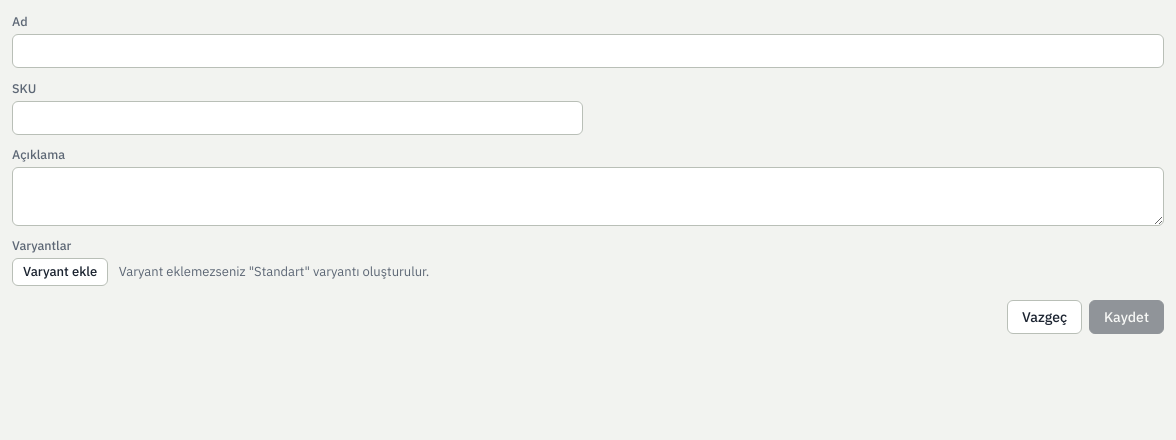
ProductForm › rejects a negative critical threshold
Type "Kupa" into the field labelled "Ad". click: [588, 51]
box: [12, 34, 1164, 68]
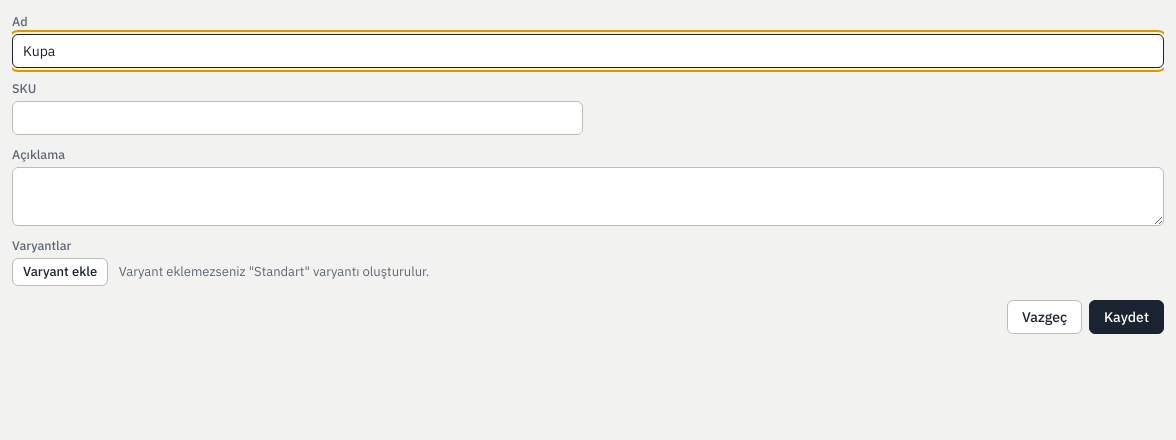
Click the button "Varyant ekle". click: [60, 272]
box: [12, 258, 108, 286]
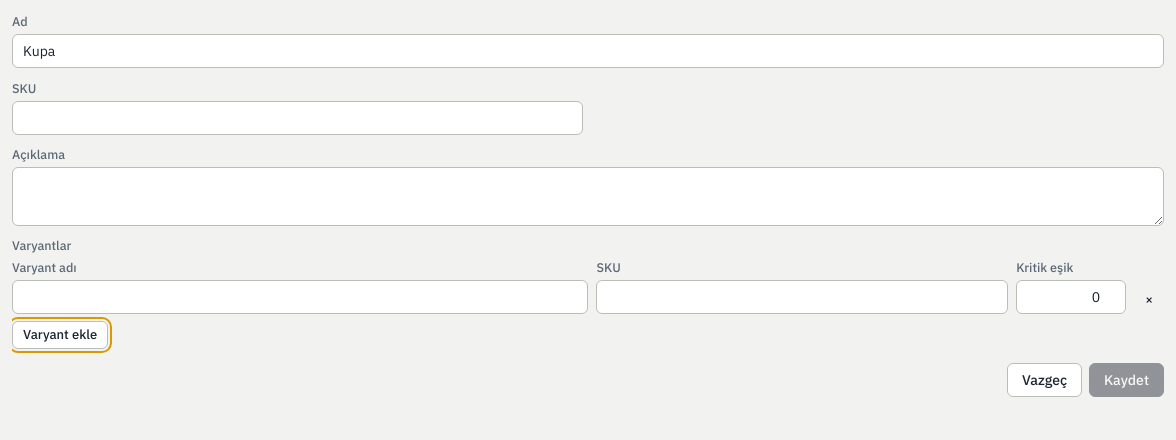
Type "Büyük" into the field labelled "Varyant adı". click: [300, 297]
box: [12, 280, 588, 314]
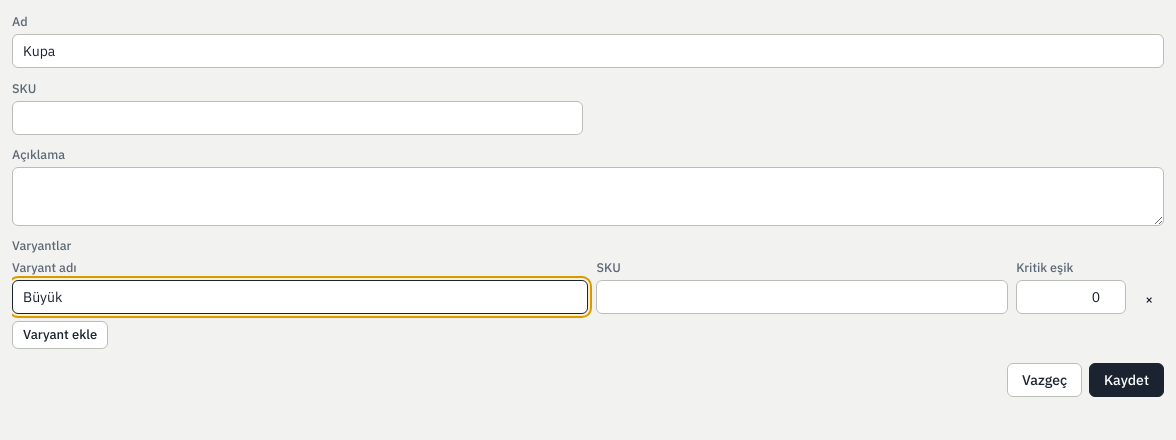
Replace the text in the number field labelled "Kritik eşik" with "-2". click: [1071, 297]
box: [1016, 280, 1126, 314]
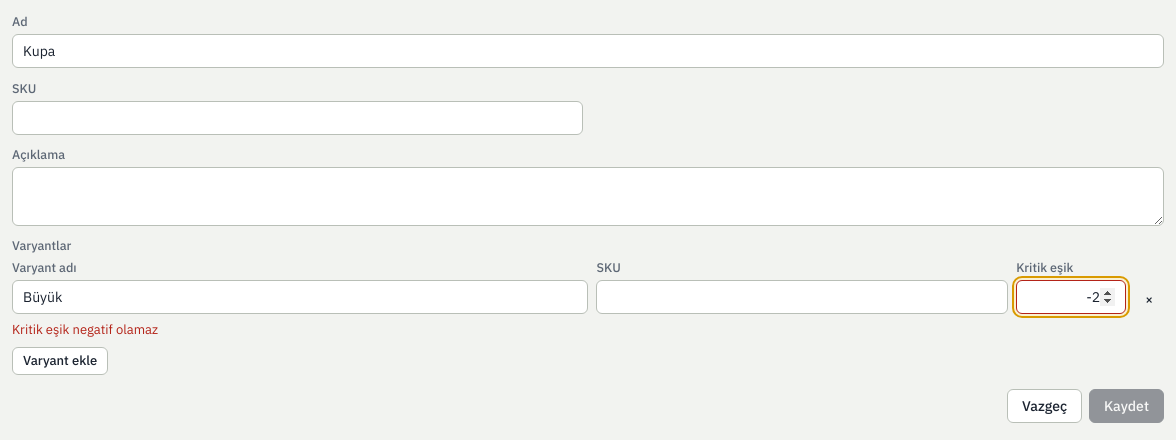
Check: the text "Kritik eşik negatif olamaz" is shown, box [12, 321, 158, 338]
Check: the button "Kaydet" is disabled, box [1089, 389, 1164, 423]
